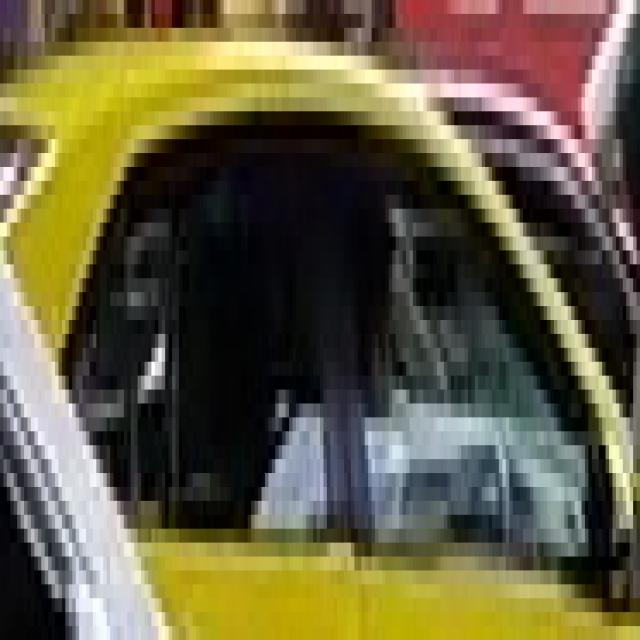door: (124, 208, 172, 514)
